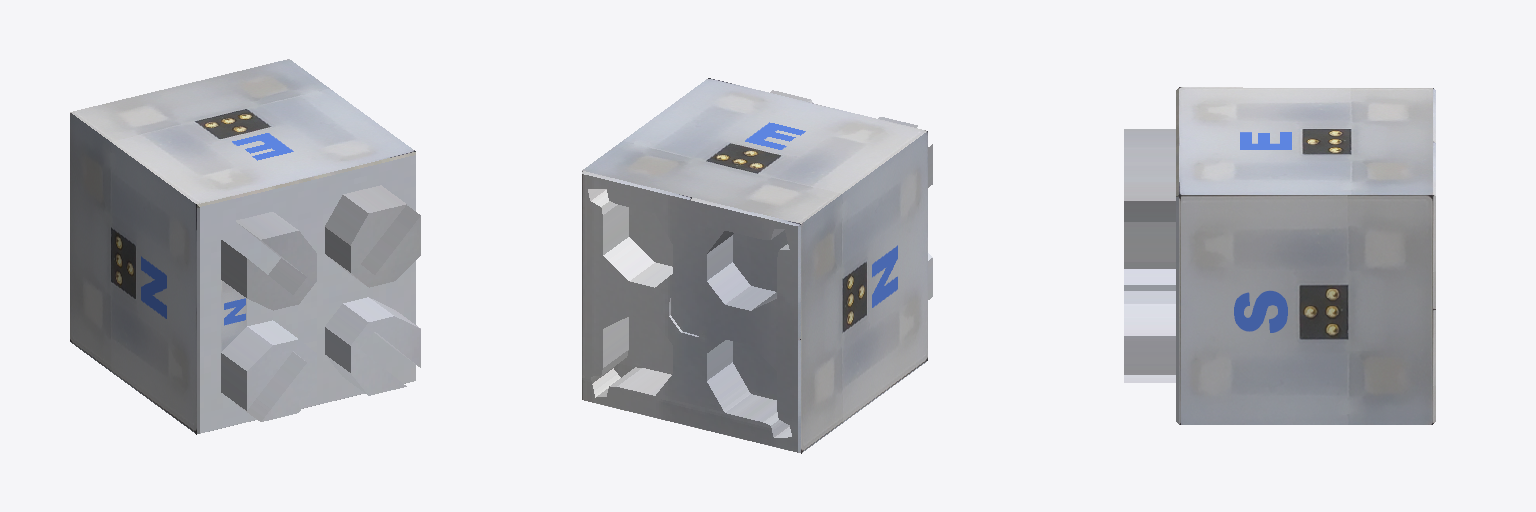
The picture shows the model from 3 angles: view 1: azimuth 30°, elevation 25°; view 2: azimuth 150°, elevation 25°; view 3: azimuth 270°, elevation 25°; orthographic projection.
Parts seen in each view (by area): view 1: bb; view 2: bb; view 3: bb.
Part boxes in pixels (bbox=[...]): bb: bbox=[70, 59, 420, 434]; bb: bbox=[582, 78, 932, 453]; bb: bbox=[1124, 87, 1435, 424].
Size of the model in its own units: 39 by 39.08 by 48.
Materials: 1 (1 with a texture image).